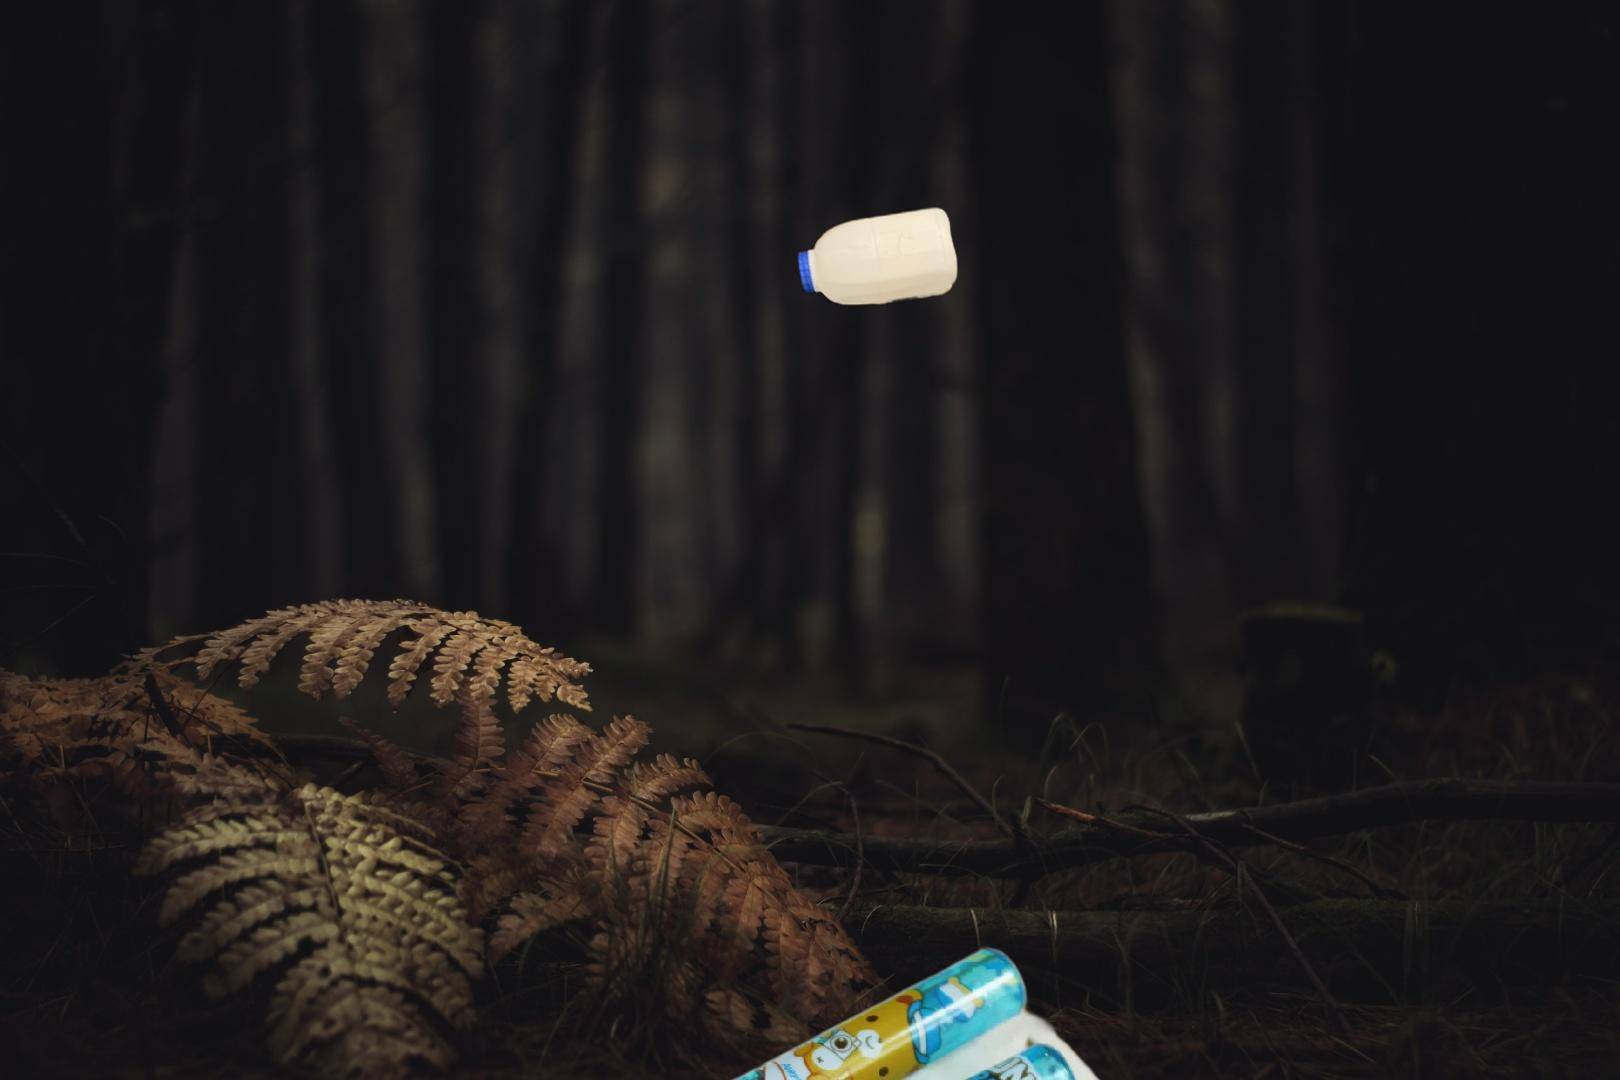penholder: (576, 937, 1188, 1080)
plastic-bottles: (792, 200, 962, 312)
